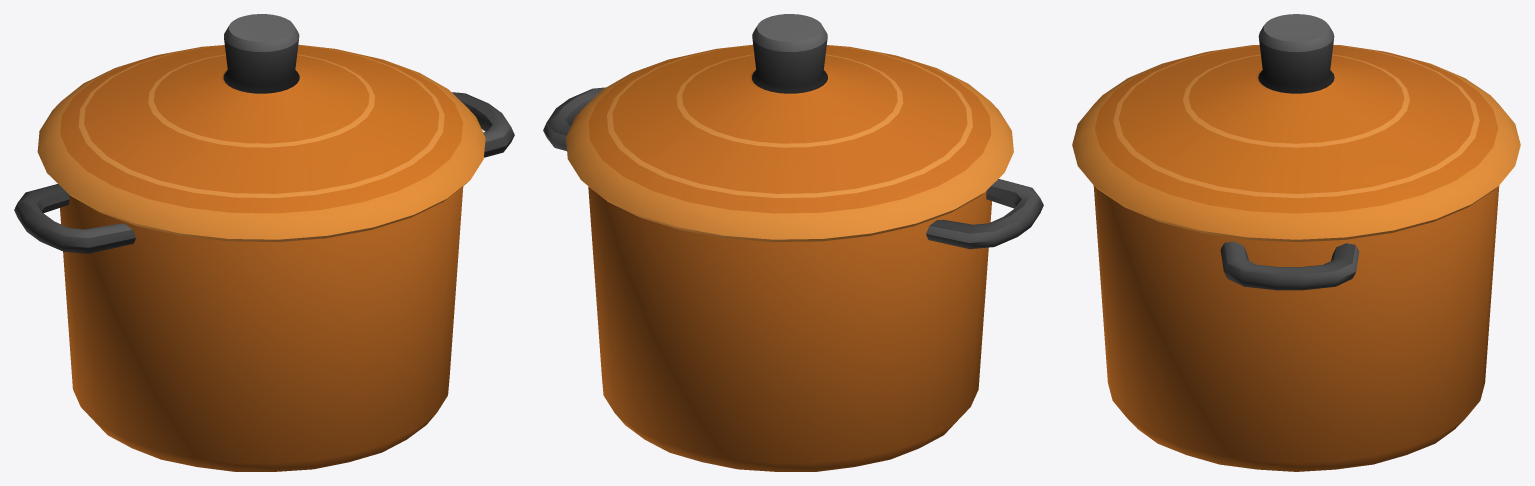
File: Pan_11.fbx
3 renders of one model, left to right at view 1: azimuth 30°, elevation 25°; view 2: azimuth 150°, elevation 25°; view 3: azimuth 270°, elevation 25°, orthographic.
Visible parts, largest first — view 1: Pan_11, Pan_11 Top; view 2: Pan_11, Pan_11 Top; view 3: Pan_11, Pan_11 Top.
Boxes of the visible parts, x1,y1,x2,y2 form: Pan_11: [14, 92, 514, 471]; Pan_11 Top: [37, 14, 485, 241]; Pan_11: [543, 87, 1043, 471]; Pan_11 Top: [566, 14, 1013, 241]; Pan_11: [1093, 185, 1499, 471]; Pan_11 Top: [1072, 14, 1520, 242].
Bounding box in the file's own units: 0.3038 × 0.2294 × 0.2526.
1 material, 1 textured.
